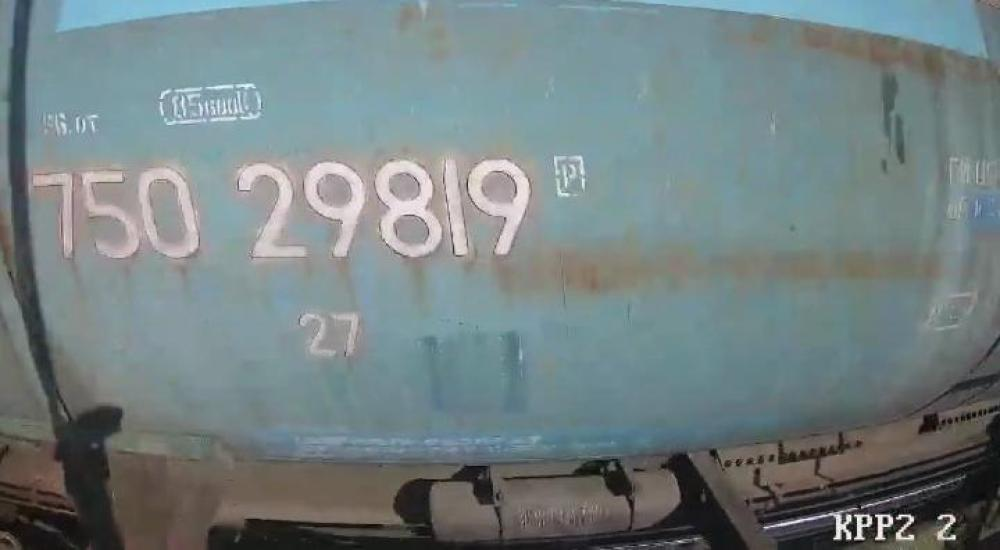Wagon-number: (31, 153, 538, 265)
